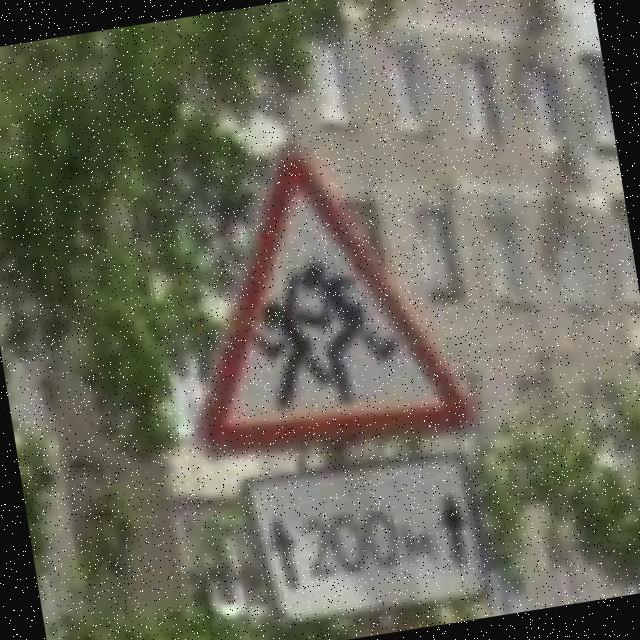Dzieci: (156, 126, 471, 468)
